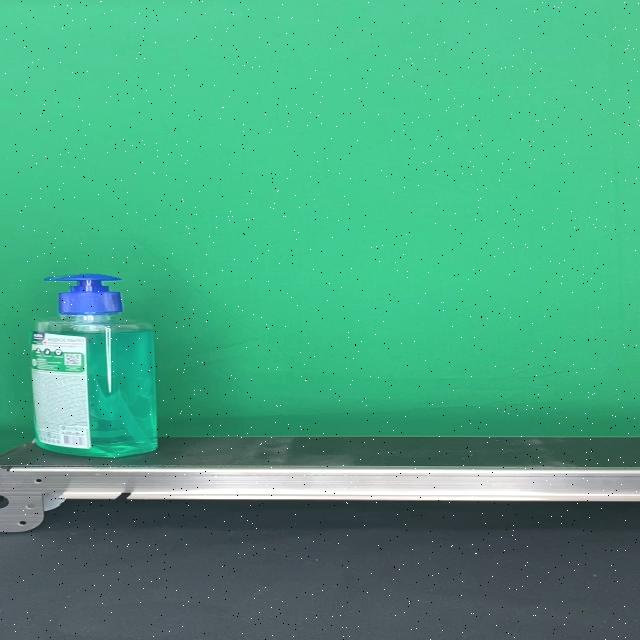Bottle: (29, 274, 158, 458)
Cap: (43, 273, 124, 315)
